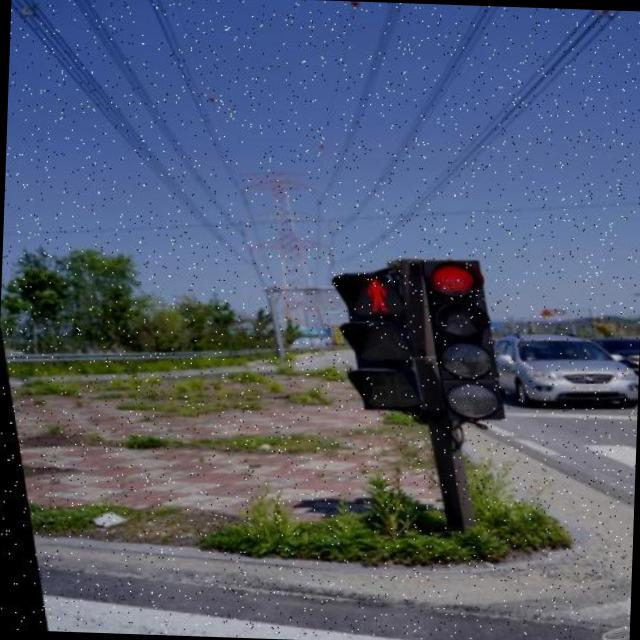red_light: (341, 264, 393, 316)
